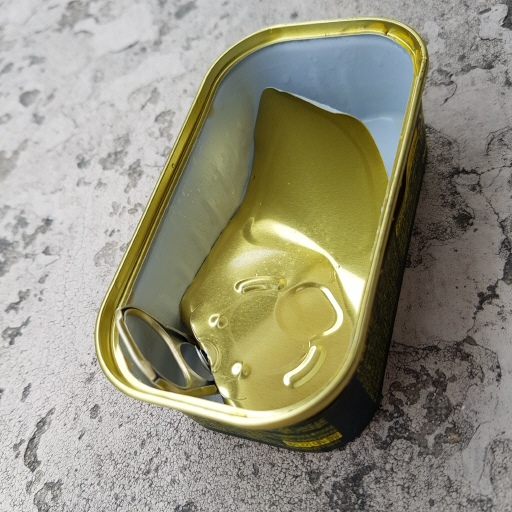Metal_2: (94, 21, 433, 451)
